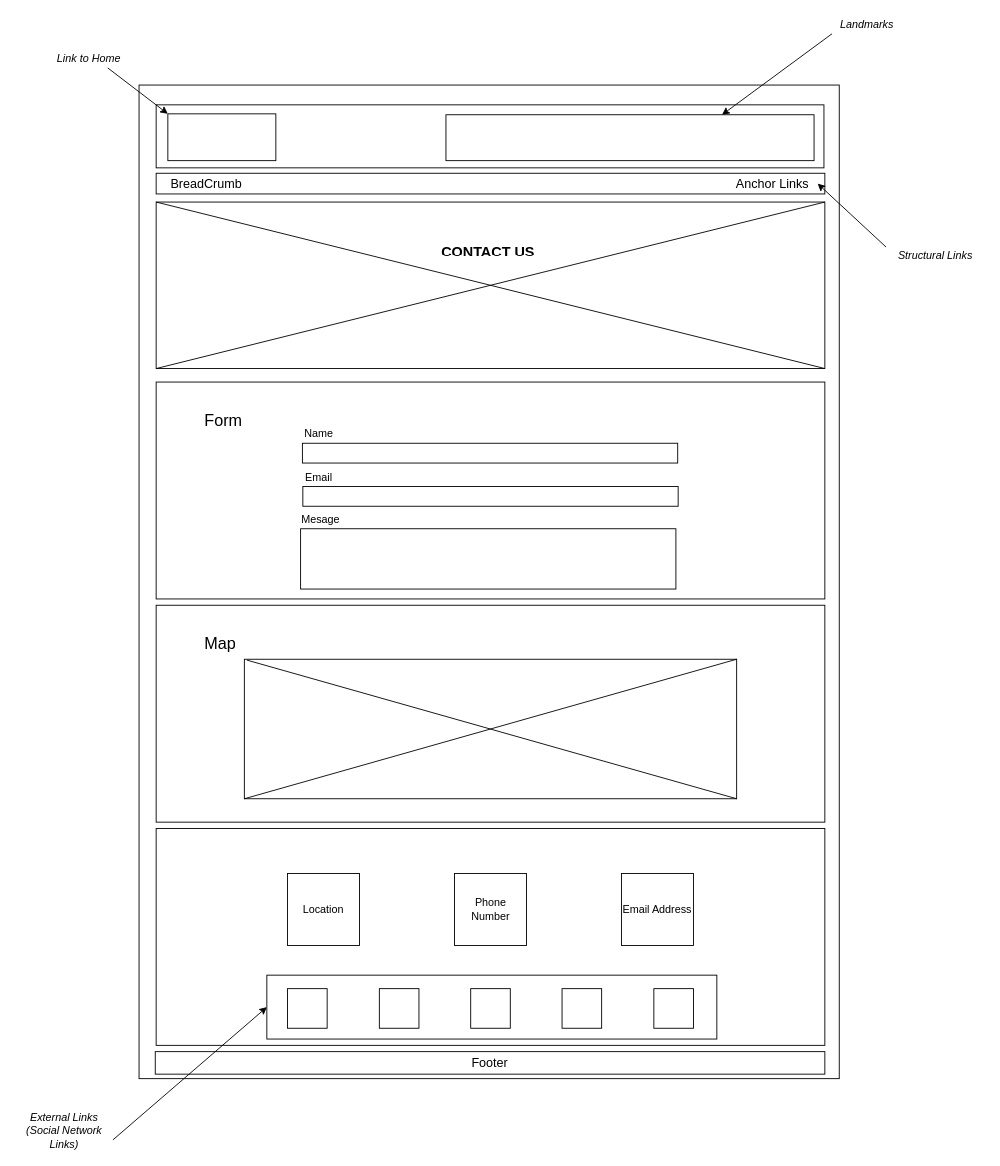
Image size: 1000x1166. Some labels were removed from this diagram. The shapes that lost their labels are listed below. From the top down, each one's centre as x and y in pixels, then its label:
the point at 221,137: LOGO
the point at 629,137: About Us Areas Services Industries Our Team Contact Us
